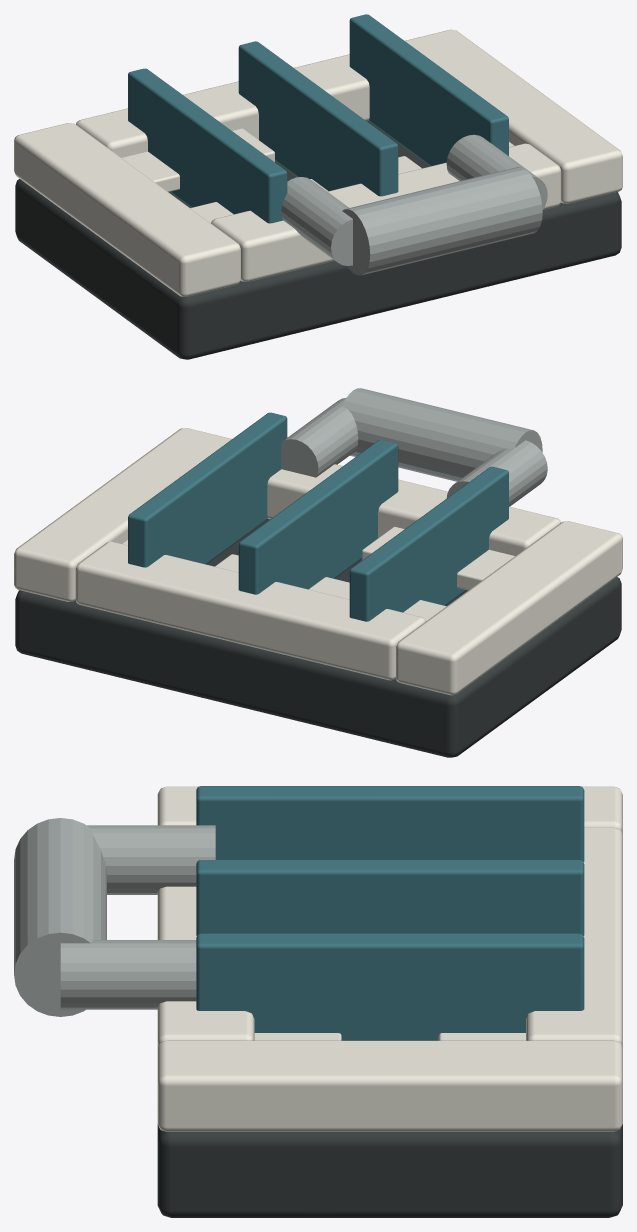
The model's file is optician-and-optical-lens-workshop-optician-and-optica-a41b6d37__31707.glb.
3 renders of one model, top to bottom at view 1: azimuth 30°, elevation 25°; view 2: azimuth 150°, elevation 25°; view 3: azimuth 270°, elevation 25°, orthographic. The views are drawn at different scales.
Parts seen in each view (by area): view 1: optician-and-optical-lens-workshop-nose-pad-parts-drawer; view 2: optician-and-optical-lens-workshop-nose-pad-parts-drawer; view 3: optician-and-optical-lens-workshop-nose-pad-parts-drawer.
Boxes of the visible parts, bbox=[...] form: optician-and-optical-lens-workshop-nose-pad-parts-drawer: bbox=[14, 14, 622, 359]; optician-and-optical-lens-workshop-nose-pad-parts-drawer: bbox=[14, 388, 622, 757]; optician-and-optical-lens-workshop-nose-pad-parts-drawer: bbox=[14, 786, 622, 1217].
Bounding box in the file's own units: 0.18 × 0.06 × 0.157.
